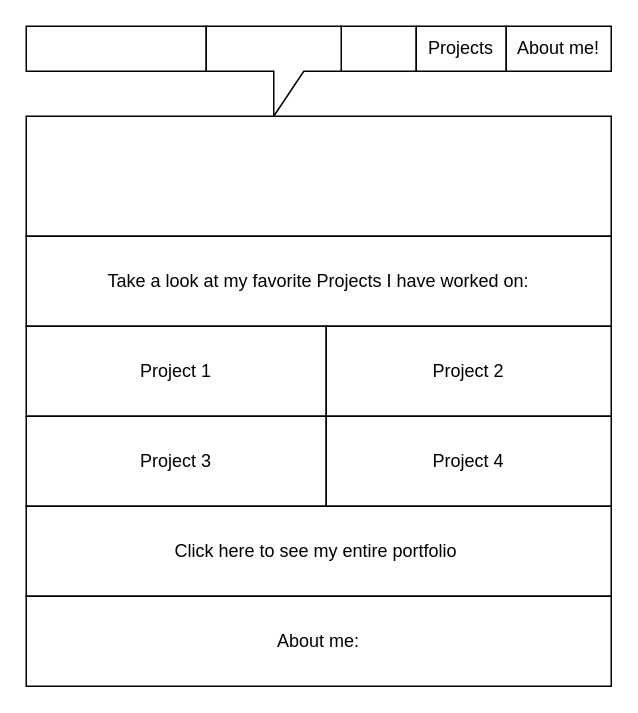
The diagram is 638 pixels wide and 713 high, and some of its shapes have lost their labels. The box of each missing label's shape, as (x1, y1, x2, y2) in pixels:
Home: (340, 25, 416, 71)
Kory Attleson: (25, 25, 206, 71)
This is my Portfolio Website Page!: (25, 115, 611, 236)
Welcome!: (205, 25, 341, 116)
